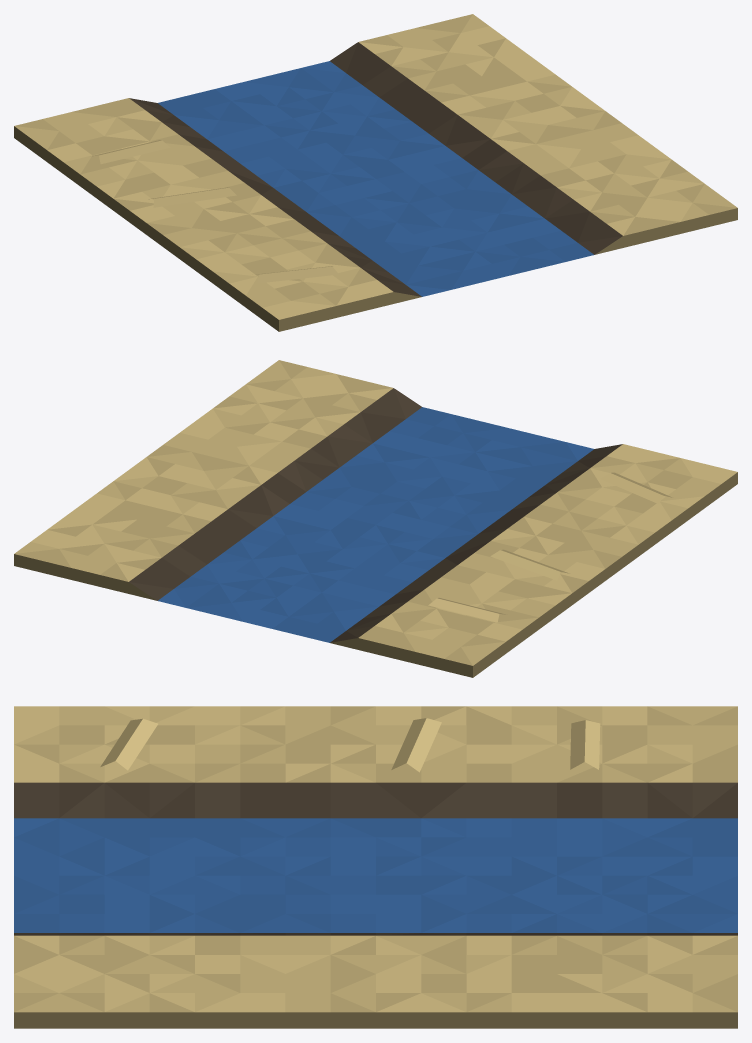
Rendered from river_straight_sand.glb.
The picture shows the model from 3 angles, top to bottom: view 1: azimuth 30°, elevation 25°; view 2: azimuth 150°, elevation 25°; view 3: azimuth 270°, elevation 25°; orthographic projection. The views are drawn at different scales.
Parts seen in each view (by area): view 1: river_straight_sand; view 2: river_straight_sand; view 3: river_straight_sand.
Part boxes in pixels (bbox=[...]): river_straight_sand: bbox=[14, 14, 737, 331]; river_straight_sand: bbox=[14, 360, 737, 677]; river_straight_sand: bbox=[14, 706, 737, 1028].
Bounding box in the file's own units: 4 × 0.135 × 4.
